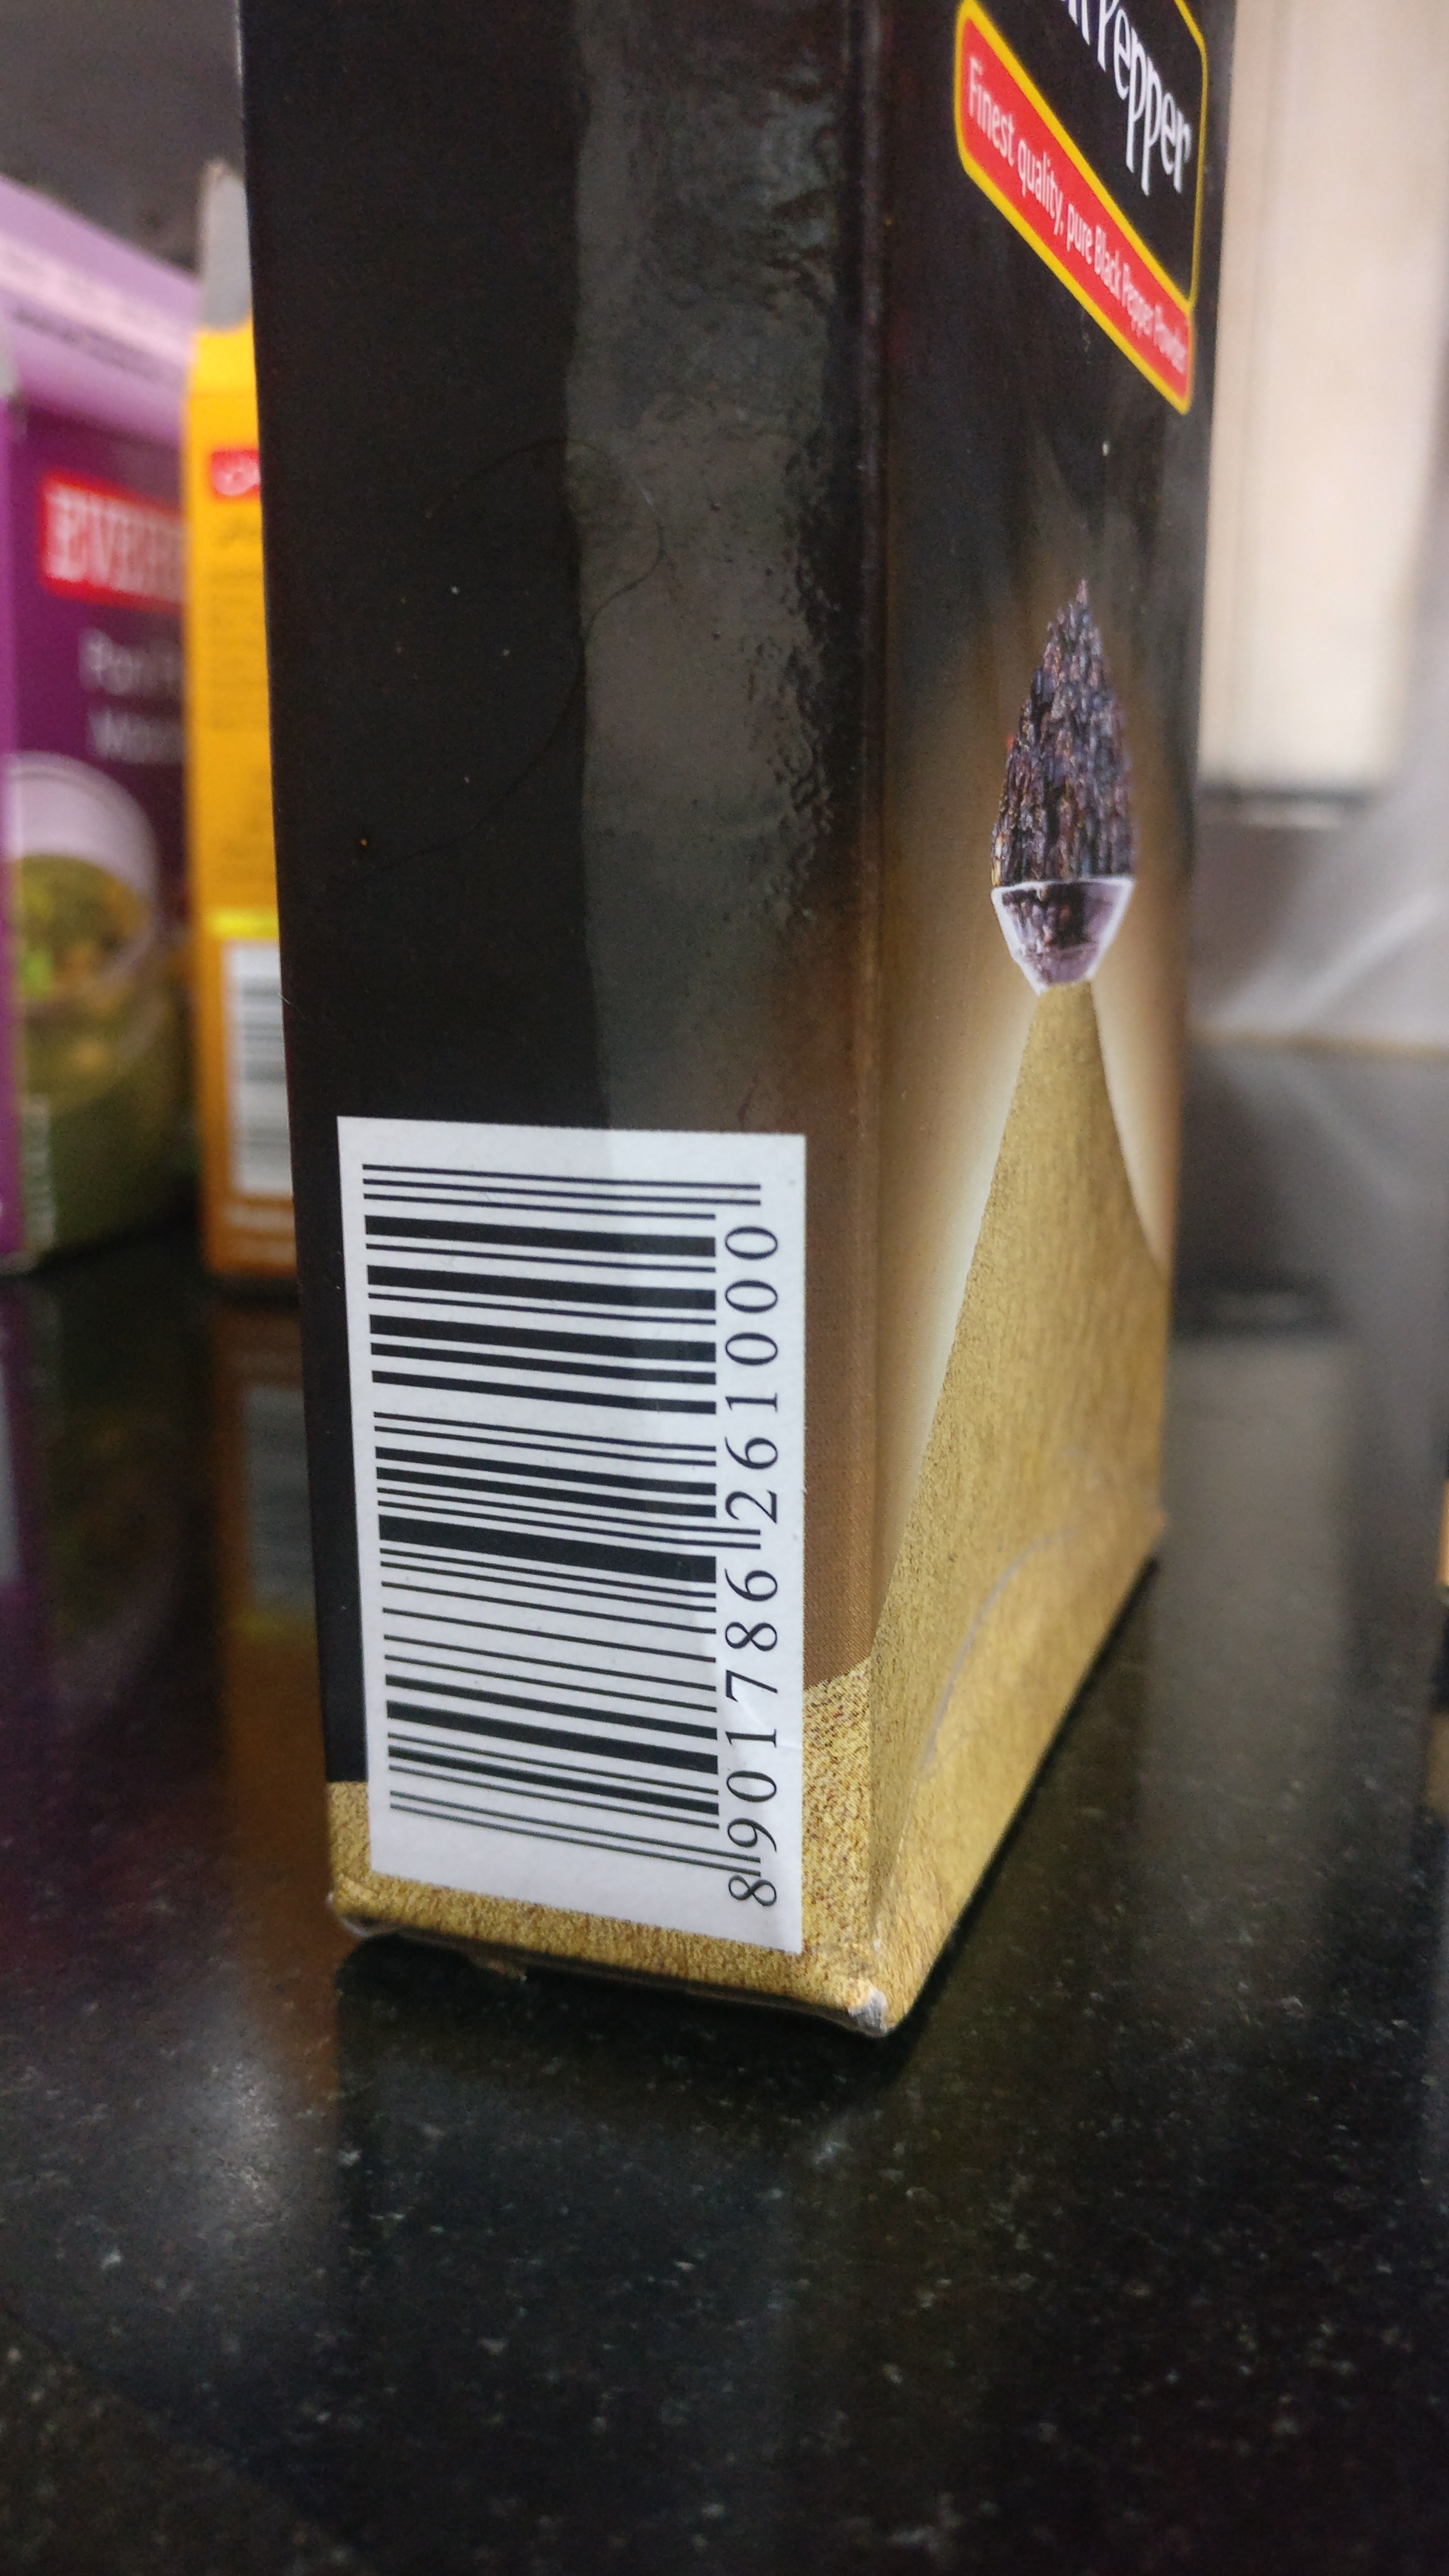barcode: (331, 1127, 812, 1923)
